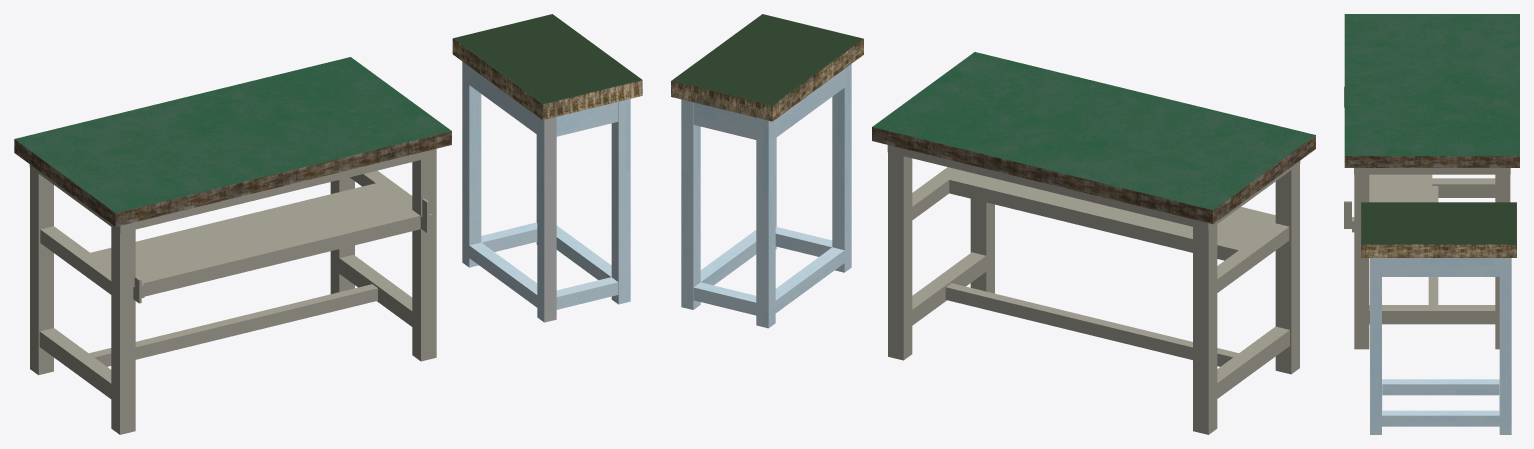
The model's file is ZhuoZi.FBX.
3 views of the same model, side by side, from view 1: azimuth 30°, elevation 25°; view 2: azimuth 150°, elevation 25°; view 3: azimuth 270°, elevation 25° (orthographic). The views are drawn at different scales.
Visible parts, largest first — view 1: YF_Model_LT_ZhuoZi, YF_Model_LT_ZhuoZi_01; view 2: YF_Model_LT_ZhuoZi, YF_Model_LT_ZhuoZi_01; view 3: YF_Model_LT_ZhuoZi, YF_Model_LT_ZhuoZi_01.
Part boxes in pixels (x1=…): YF_Model_LT_ZhuoZi: x1=14, y1=57, x2=451, y2=434; YF_Model_LT_ZhuoZi_01: x1=452, y1=14, x2=642, y2=322; YF_Model_LT_ZhuoZi: x1=872, y1=52, x2=1315, y2=434; YF_Model_LT_ZhuoZi_01: x1=671, y1=14, x2=863, y2=328; YF_Model_LT_ZhuoZi: x1=1344, y1=14, x2=1519, y2=349; YF_Model_LT_ZhuoZi_01: x1=1361, y1=202, x2=1516, y2=434.
Size of the model in its own units: 223 by 90.48 by 73.08.
Materials: 2 (2 with a texture image).
